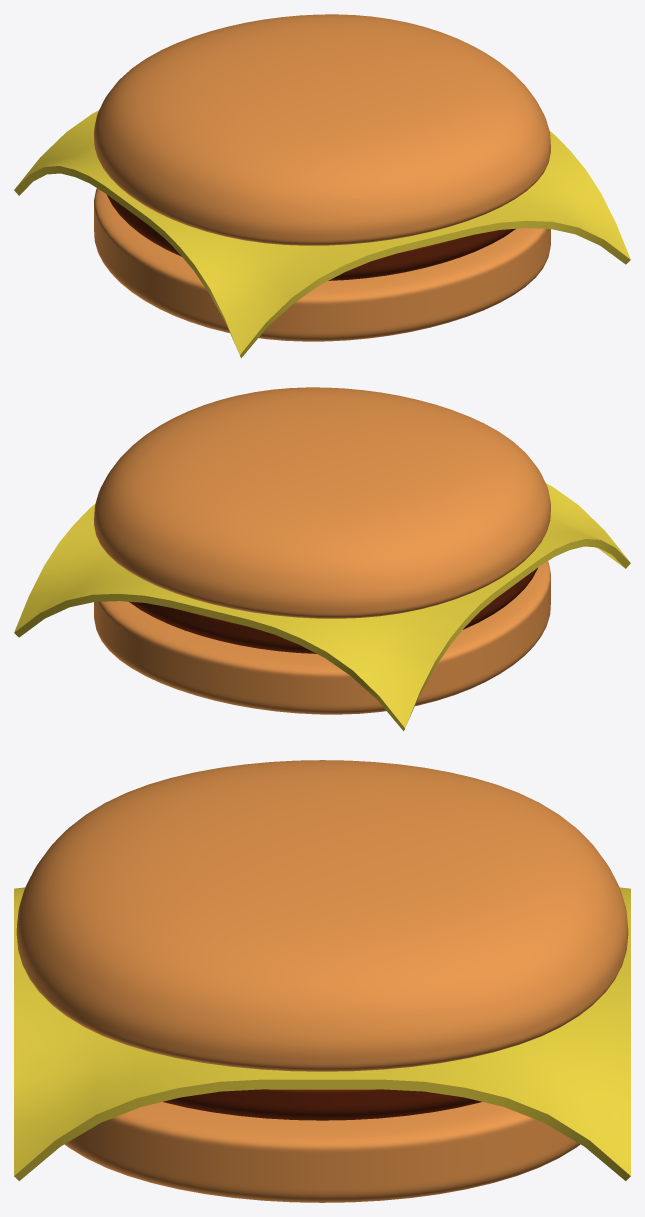
Rendered from hamburger.glb.
3 renders of one model, top to bottom at view 1: azimuth 30°, elevation 25°; view 2: azimuth 150°, elevation 25°; view 3: azimuth 270°, elevation 25°, orthographic. The views are drawn at different scales.
Parts seen in each view (by area): view 1: Cube.002, Plane, Cube, Cube.001; view 2: Cube.002, Plane, Cube, Cube.001; view 3: Cube.002, Plane, Cube, Cube.001.
Part boxes in pixels (x1=…): Cube.002: x1=94, y1=14, x2=550, y2=245; Plane: x1=14, y1=110, x2=630, y2=358; Cube: x1=94, y1=188, x2=550, y2=341; Cube.001: x1=107, y1=195, x2=515, y2=280; Cube.002: x1=94, y1=387, x2=550, y2=618; Plane: x1=14, y1=483, x2=630, y2=731; Cube: x1=94, y1=561, x2=550, y2=714; Cube.001: x1=129, y1=568, x2=537, y2=653; Cube.002: x1=16, y1=760, x2=628, y2=1071; Plane: x1=14, y1=887, x2=630, y2=1180; Cube: x1=64, y1=1102, x2=580, y2=1202; Cube.001: x1=163, y1=1089, x2=481, y2=1120.
Size of the model in its own units: 9.13 by 4.23 by 9.13.
